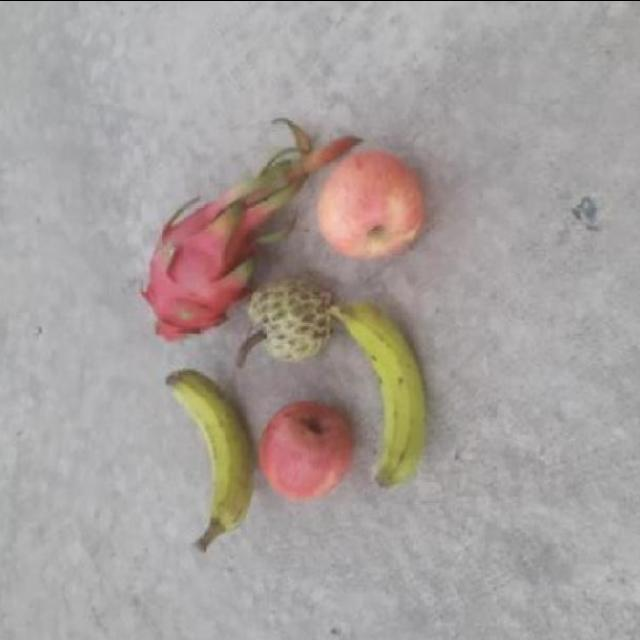apple: (319, 153, 430, 257), (258, 399, 350, 503)
banana: (330, 296, 424, 488), (156, 366, 258, 540), (140, 214, 254, 348)
sugar apple: (246, 276, 334, 358)
